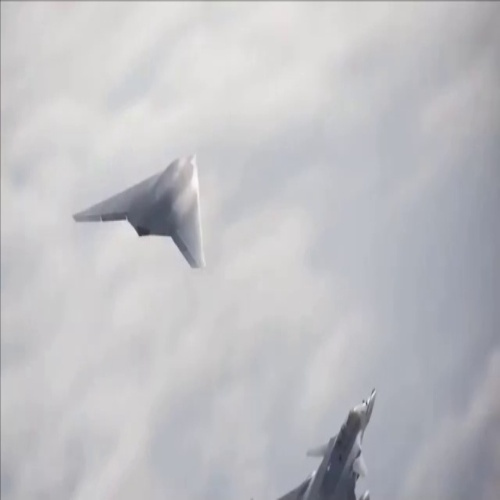uav915: (69, 149, 215, 269)
